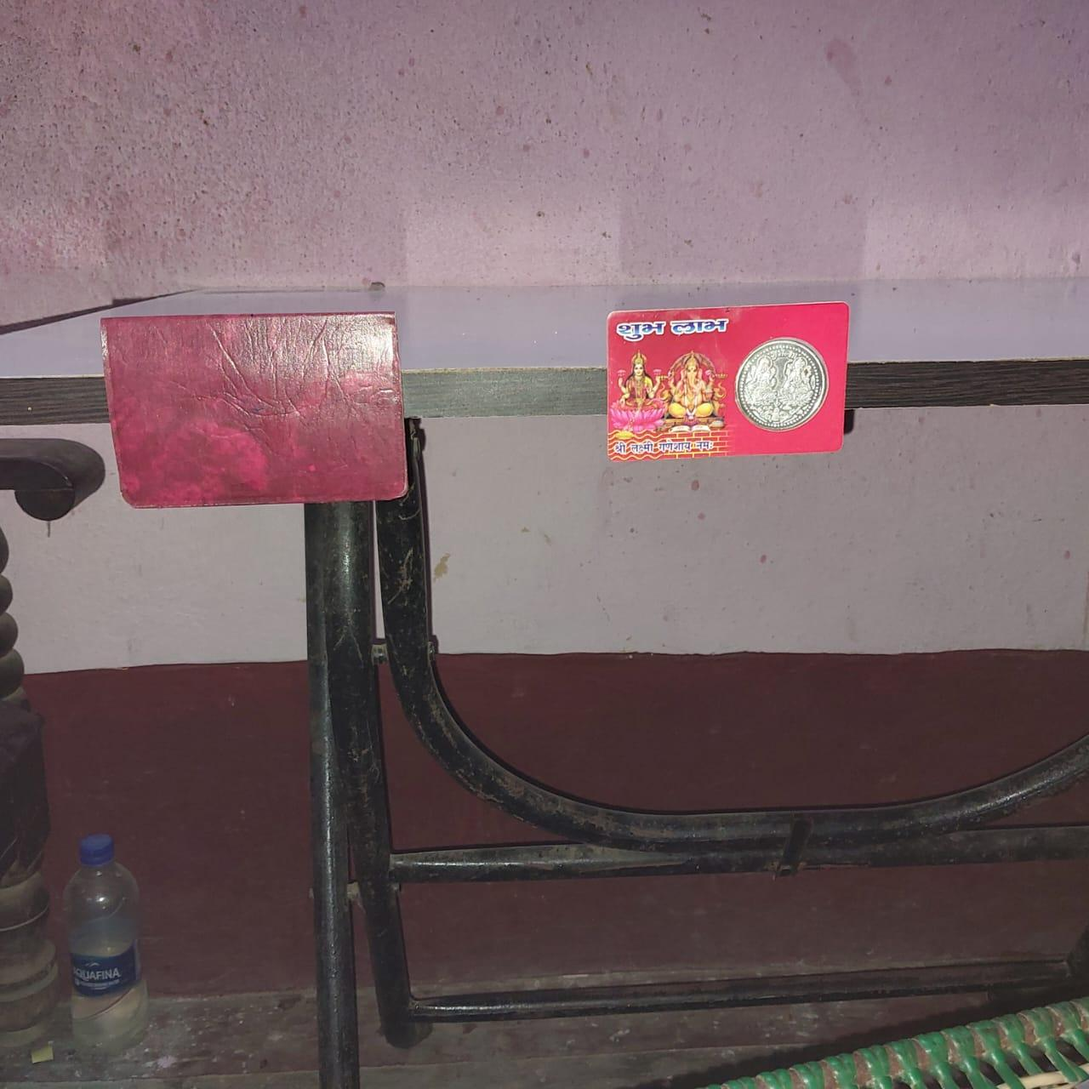blessing_card: (609, 298, 853, 460)
wallet: (95, 308, 404, 502)
